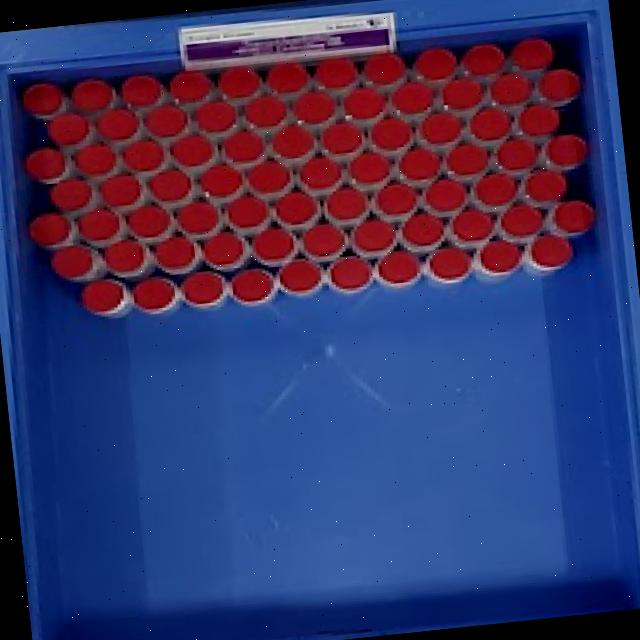vials: (180, 270, 228, 308), (22, 82, 66, 119), (231, 268, 275, 305), (70, 78, 114, 112), (170, 134, 215, 167), (120, 74, 163, 108), (511, 37, 554, 71), (551, 199, 594, 233), (401, 212, 444, 246), (328, 256, 371, 290), (536, 68, 580, 101), (221, 130, 265, 163), (24, 146, 66, 180), (369, 117, 411, 151), (168, 70, 211, 103), (144, 104, 187, 137), (96, 108, 139, 141), (122, 139, 165, 172), (253, 227, 296, 260), (529, 234, 572, 267), (177, 200, 218, 234), (133, 276, 174, 310), (479, 239, 520, 273), (218, 65, 260, 98), (441, 77, 483, 110), (293, 91, 335, 124), (244, 95, 286, 128), (29, 212, 71, 245), (50, 245, 92, 278), (81, 279, 123, 312), (279, 259, 321, 292), (363, 52, 406, 84), (194, 100, 237, 132), (271, 125, 314, 157), (544, 134, 587, 166), (127, 205, 170, 237), (423, 179, 466, 211), (148, 169, 192, 200), (48, 112, 89, 145), (469, 108, 510, 141), (399, 147, 440, 180), (200, 164, 241, 197), (326, 187, 367, 220), (379, 250, 420, 283), (429, 247, 470, 280), (518, 104, 560, 136), (446, 143, 488, 175), (248, 161, 290, 193), (525, 170, 567, 202), (500, 204, 542, 236), (451, 209, 493, 241), (103, 239, 145, 271), (392, 81, 432, 114), (496, 138, 536, 171), (154, 236, 194, 269), (414, 48, 455, 80), (462, 43, 503, 75), (344, 87, 385, 119), (75, 143, 116, 175), (419, 112, 460, 144), (348, 152, 389, 184), (100, 174, 141, 206), (51, 178, 92, 210), (78, 208, 119, 240), (275, 191, 316, 223), (474, 173, 515, 205), (303, 224, 344, 256), (266, 62, 308, 93), (315, 57, 357, 88), (489, 73, 531, 104), (320, 122, 362, 153), (203, 232, 242, 265), (227, 196, 267, 228), (353, 219, 393, 251), (299, 157, 340, 188), (375, 183, 416, 214)
